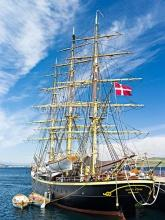fanchuan: (27, 8, 162, 214)
